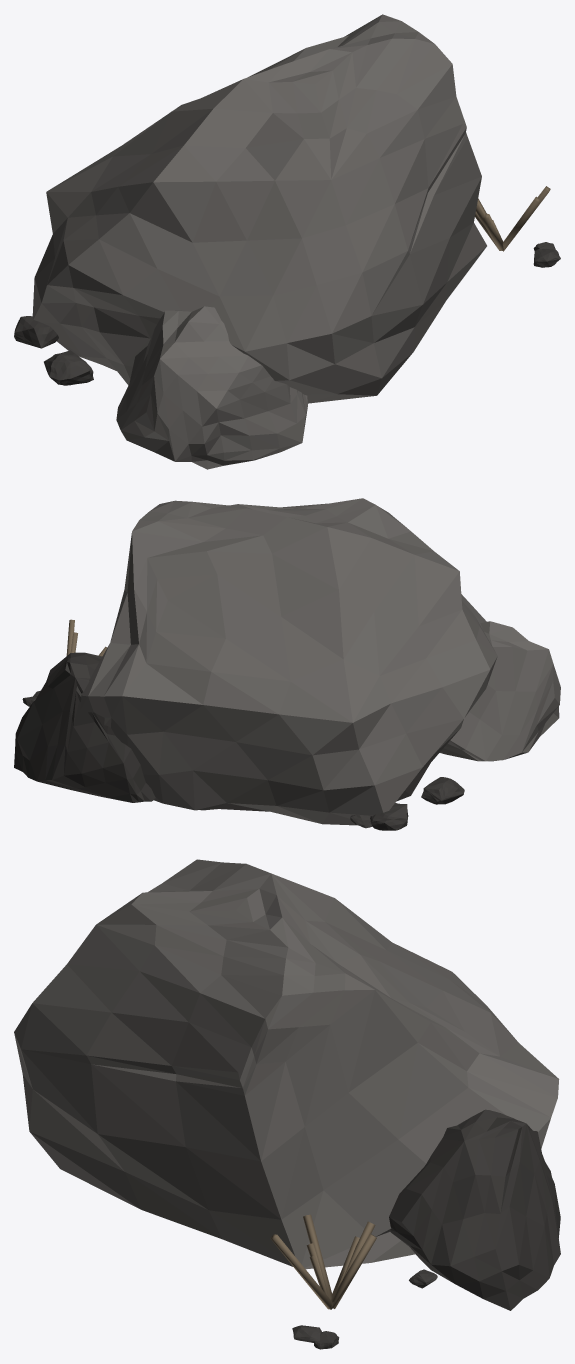
File: cover_rock_9.glb
The picture shows the model from 3 angles, top to bottom: view 1: azimuth 30°, elevation 25°; view 2: azimuth 150°, elevation 25°; view 3: azimuth 270°, elevation 25°; orthographic projection. The views are drawn at different scales.
Visible parts, largest first — view 1: rock_0, rock_1, grit_5, grit_0; view 2: rock_0, rock_2, rock_1, grit_5, grit_0; view 3: rock_0, rock_2, weed_0, weed_1.
Boxes of the visible parts, bbox=[...] form: rock_0: bbox=[32, 14, 486, 403]; rock_1: bbox=[116, 306, 307, 469]; grit_5: bbox=[44, 350, 93, 385]; grit_0: bbox=[14, 316, 58, 348]; rock_0: bbox=[80, 498, 497, 825]; rock_2: bbox=[14, 652, 155, 802]; rock_1: bbox=[439, 621, 560, 761]; grit_5: bbox=[421, 777, 464, 804]; grit_0: bbox=[370, 803, 408, 830]; rock_0: bbox=[14, 859, 559, 1269]; rock_2: bbox=[389, 1109, 560, 1310]; weed_0: bbox=[270, 1234, 332, 1309]; weed_1: bbox=[331, 1234, 376, 1308].
Bounding box in the file's own units: 1.87 × 1.03 × 1.56.
